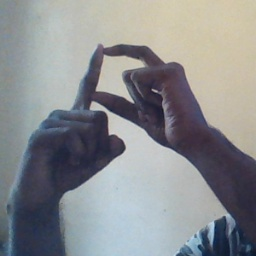D: (62, 35, 179, 156)
